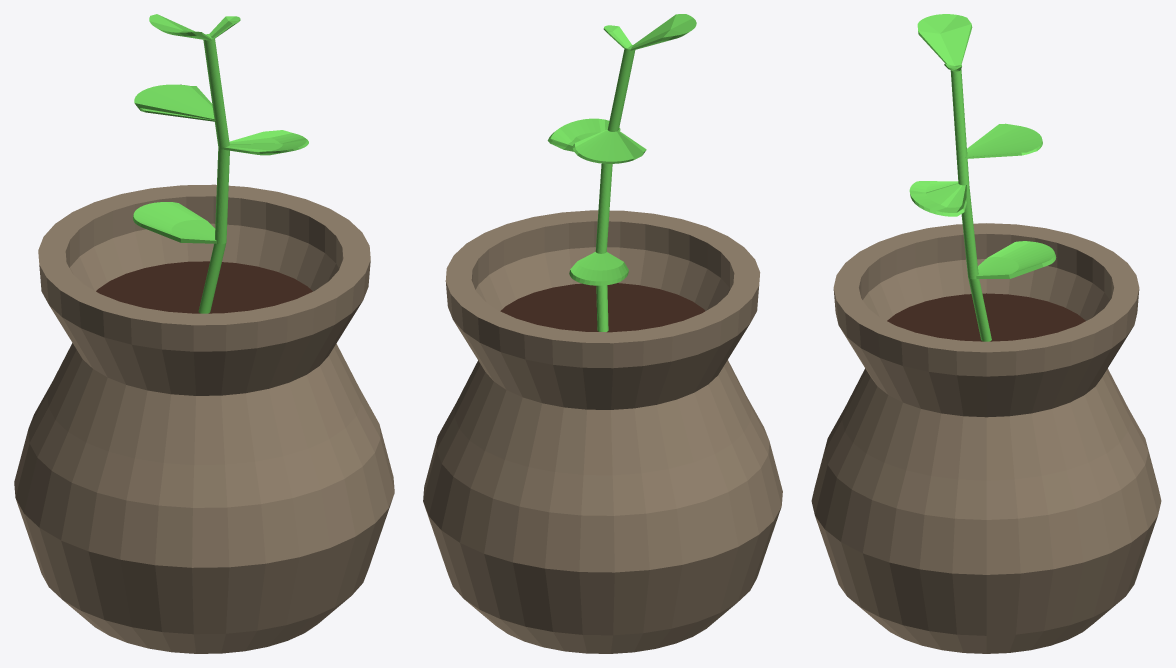
Rendered from potted_plant1.fbx.
3 renders of one model, left to right at view 1: azimuth 30°, elevation 25°; view 2: azimuth 150°, elevation 25°; view 3: azimuth 270°, elevation 25°, orthographic. The views are drawn at different scales.
Parts seen in each view (by area): view 1: Pot, Dirt; view 2: Pot, Dirt; view 3: Pot, Dirt.
Part boxes in pixels (left/top/right/bottom): Pot: left=14, top=184, right=394, bottom=653; Dirt: left=96, top=14, right=312, bottom=313; Pot: left=423, top=210, right=782, bottom=653; Dirt: left=500, top=14, right=705, bottom=332; Pot: left=811, top=223, right=1161, bottom=653; Dirt: left=887, top=14, right=1085, bottom=341.
Bounding box in the file's own units: 200 × 352 × 200.
